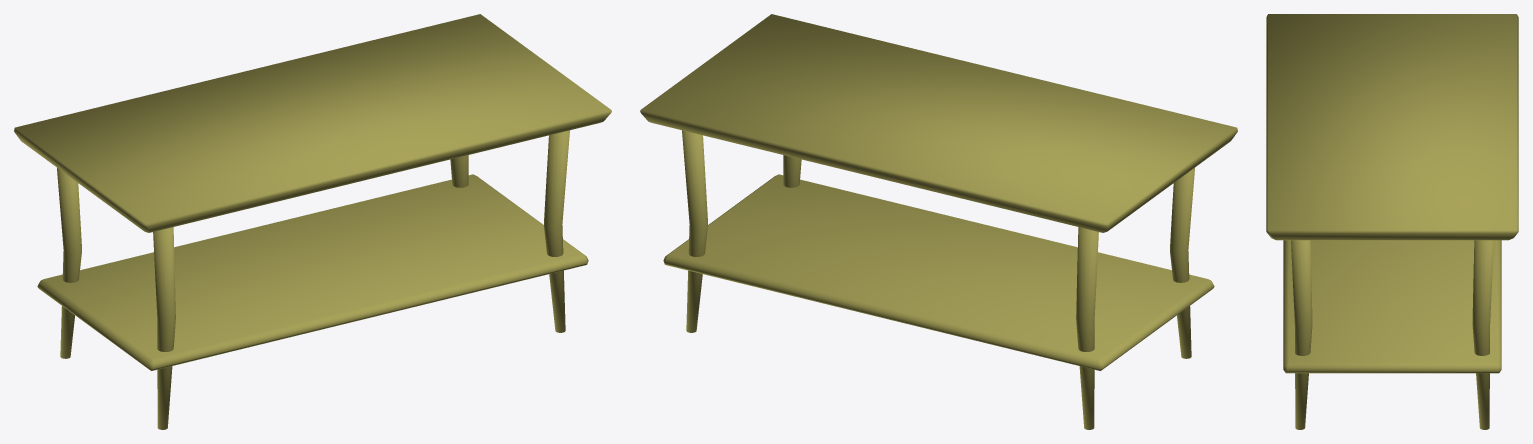
Rendered from stolik1.fbx.
3 views of the same model, side by side, from view 1: azimuth 30°, elevation 25°; view 2: azimuth 150°, elevation 25°; view 3: azimuth 270°, elevation 25° (orthographic). The views are drawn at different scales.
Parts seen in each view (by area): view 1: Plane; view 2: Plane; view 3: Plane.
Boxes of the visible parts, x1,y1,x2,y2 form: Plane: (14, 14, 611, 429); Plane: (640, 14, 1237, 429); Plane: (1266, 14, 1518, 429).
Size of the model in its own units: 224 by 103 by 110.
